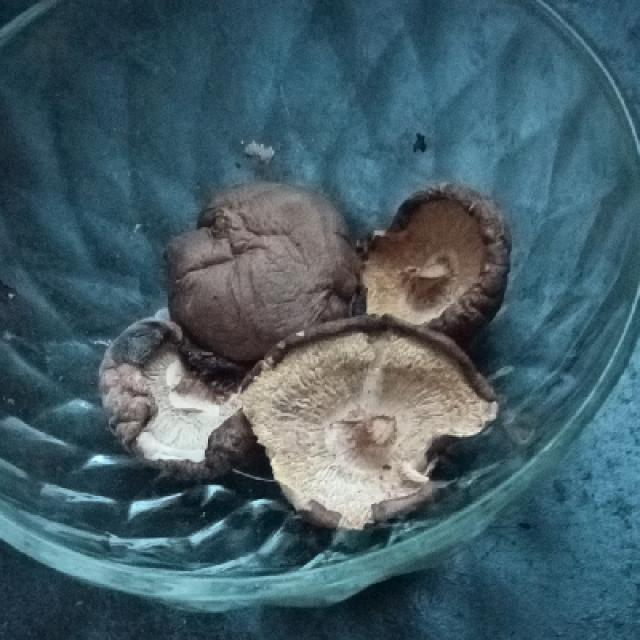Lentinus edodes: (236, 317, 499, 528), (160, 187, 365, 356), (349, 188, 515, 336), (102, 326, 225, 474)
